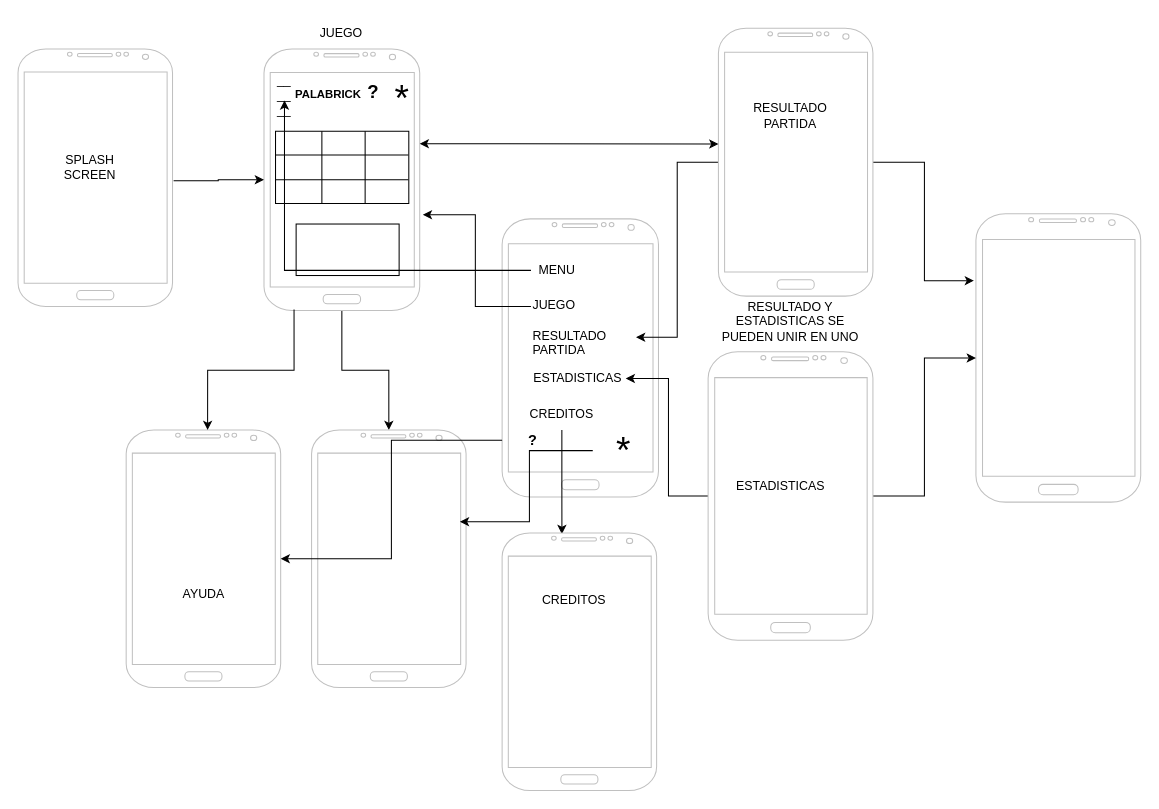
This 1159x809 diagram has some shape labels left out. The shapes that lost their labels are listed below. From the top down, each one's centre as x and y in pixels, then its label:
At pixel 1058 357: "COMPARTIR".
At pixel 388 558: "AJUSTES".
